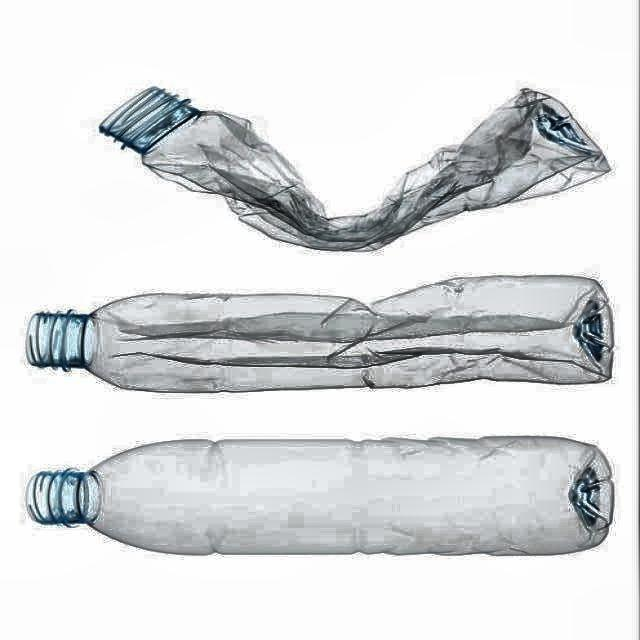plastic: (100, 88, 608, 250), (28, 438, 612, 554), (28, 276, 611, 392)
